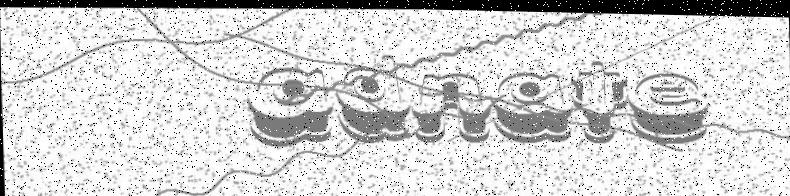a: (244, 62, 336, 148), (490, 67, 574, 142)
d: (335, 51, 412, 143)
e: (625, 68, 708, 143)
n: (410, 70, 489, 142)
t: (570, 56, 628, 142)
